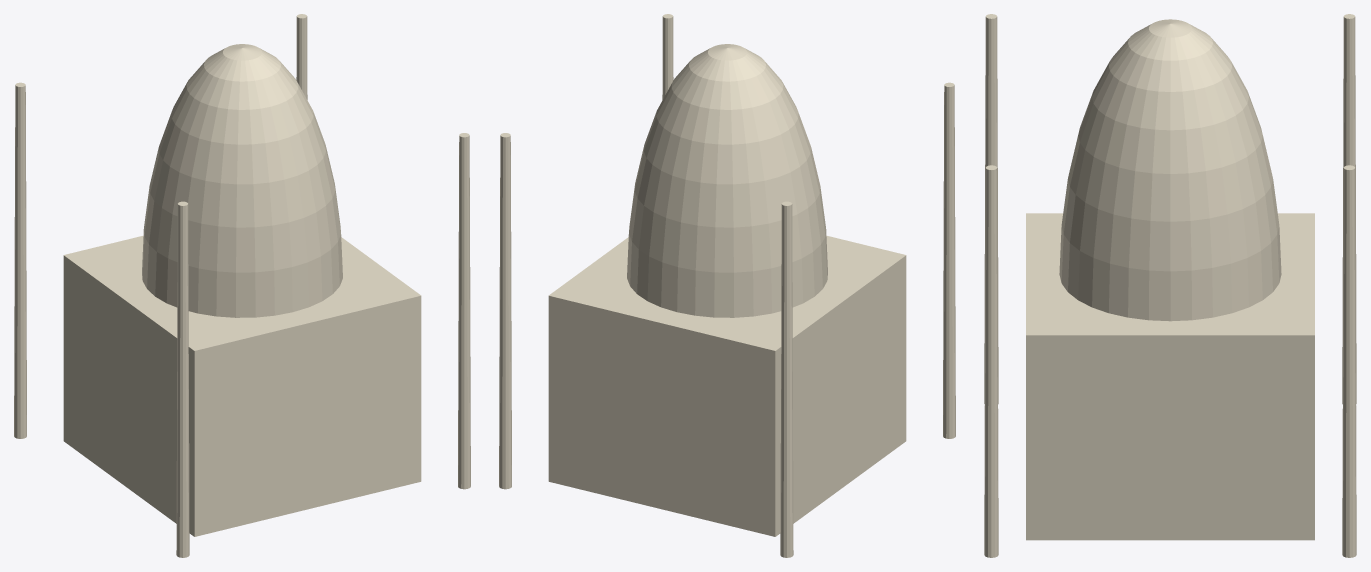
File: place-st-peters-basilica.glb
The picture shows the model from 3 angles, left to right: view 1: azimuth 30°, elevation 25°; view 2: azimuth 150°, elevation 25°; view 3: azimuth 270°, elevation 25°; orthographic projection. The views are drawn at different scales.
Visible parts, largest first — view 1: place-st-peters-basilica; view 2: place-st-peters-basilica; view 3: place-st-peters-basilica.
Part boxes in pixels (<box>): place-st-peters-basilica: <box>14,14,470,557</box>; place-st-peters-basilica: <box>499,14,955,557</box>; place-st-peters-basilica: <box>984,14,1356,557</box>.
Size of the model in its own units: 98.78 by 133 by 98.78.
